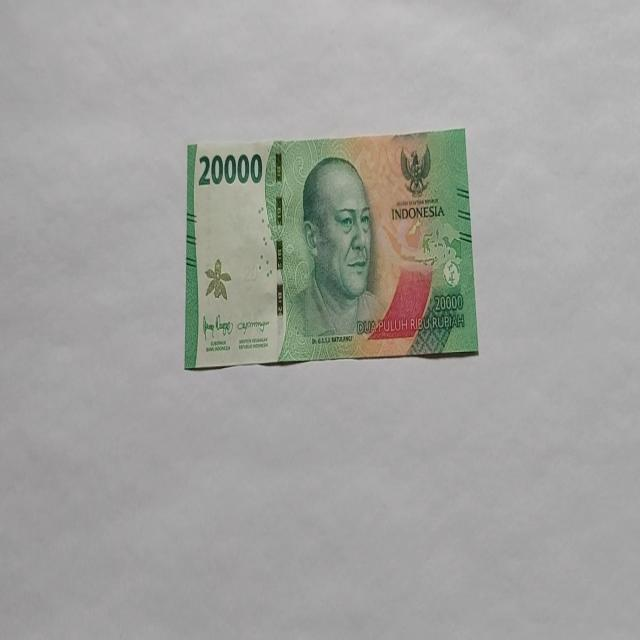dua puluh ribu rupiah: (183, 126, 479, 370)
